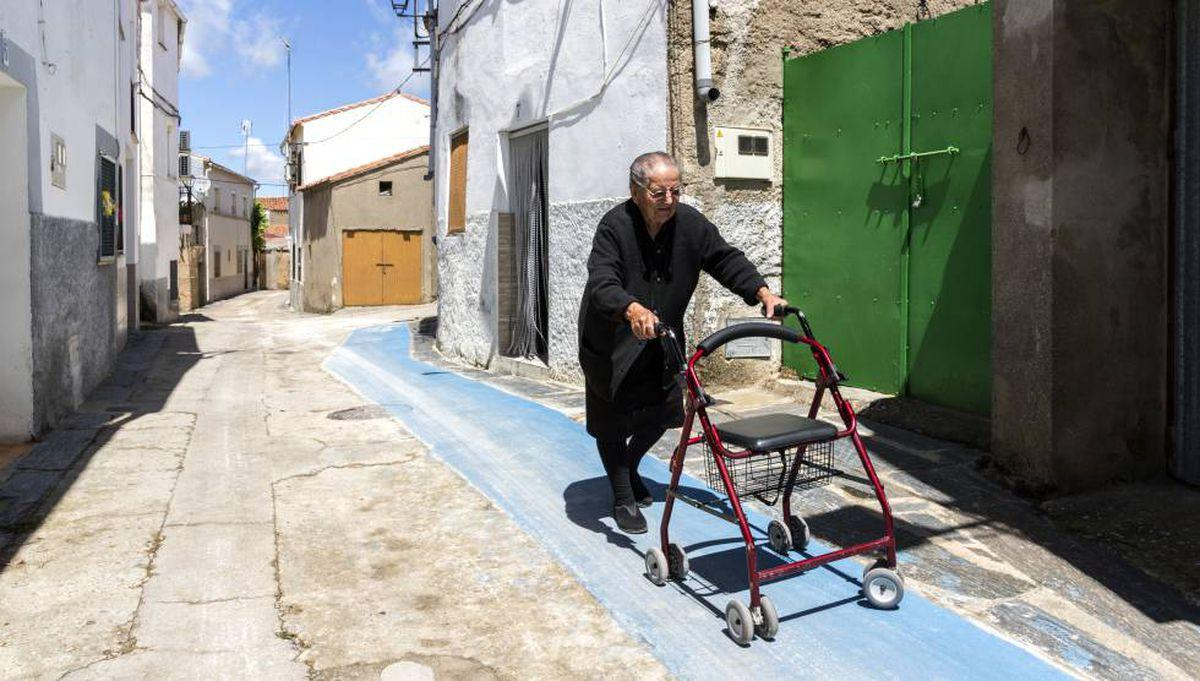walking_frame: (577, 151, 906, 646)
